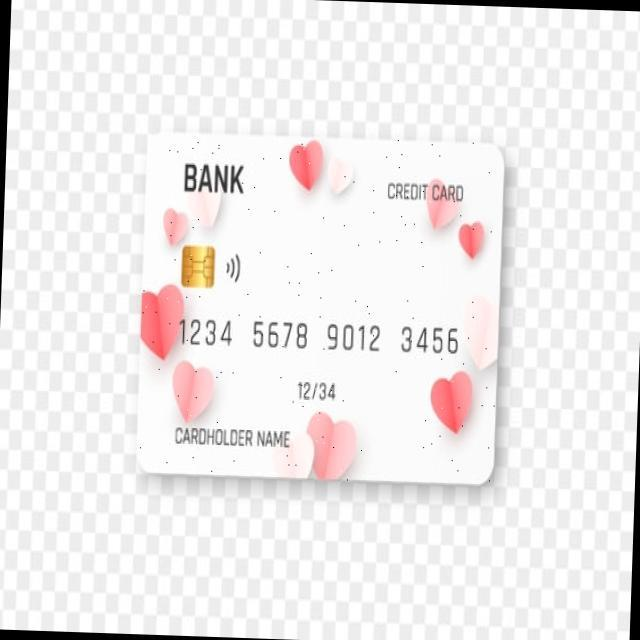payment_card: (136, 131, 504, 486)
